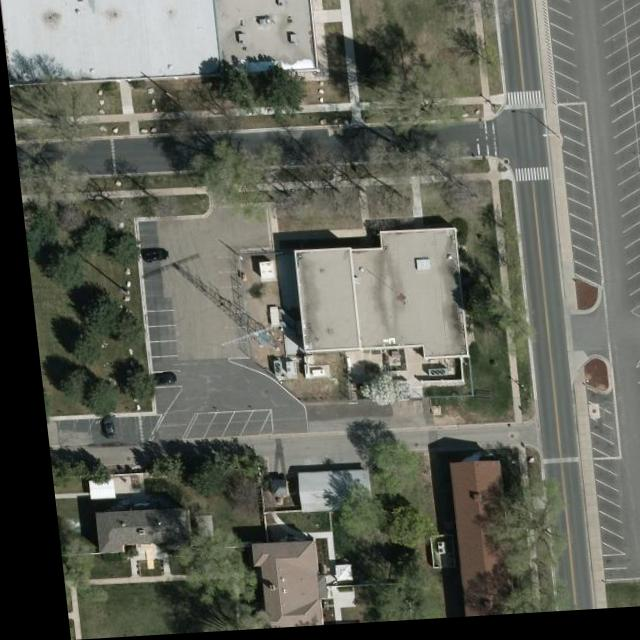vehicle: (85, 413, 113, 442), (139, 373, 170, 387), (136, 251, 165, 265)
